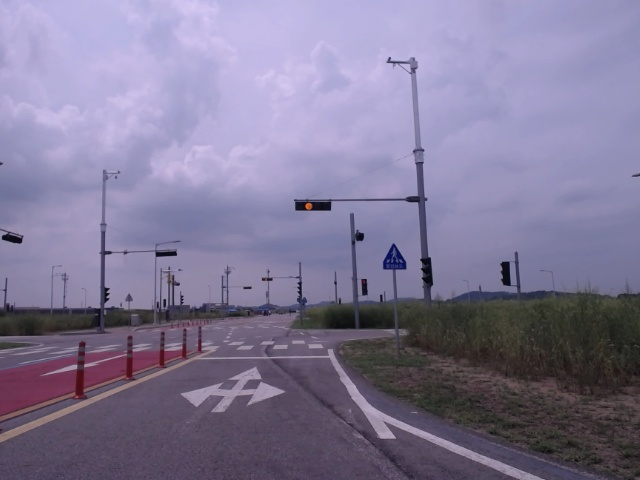orange_4: (293, 199, 334, 213), (262, 276, 274, 282)
